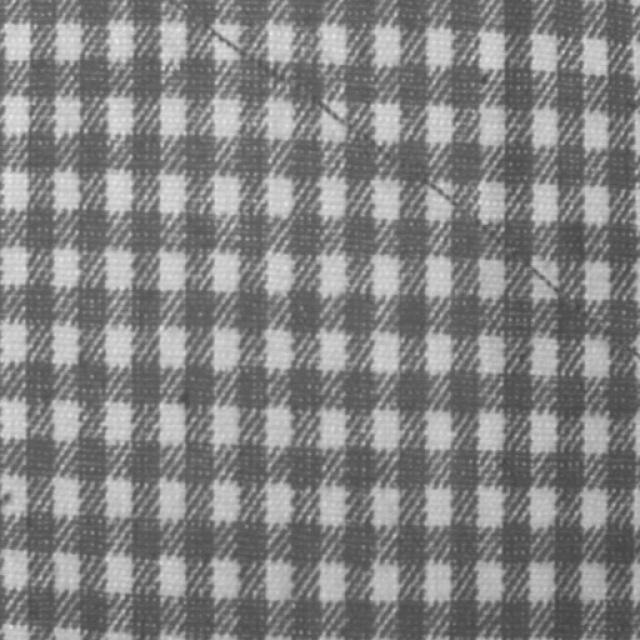Foreign-Body-Defect: (180, 3, 637, 352)
